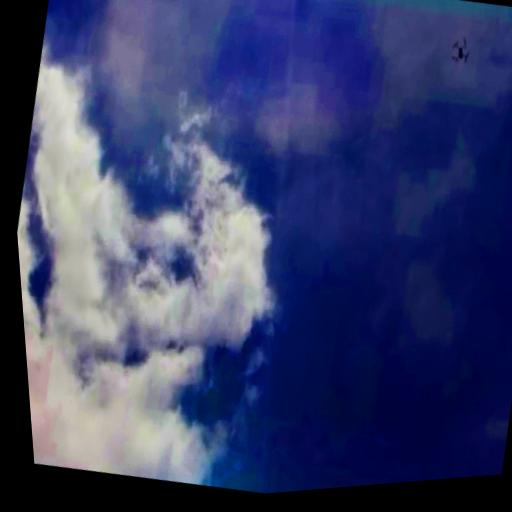drones: (444, 29, 475, 70)
